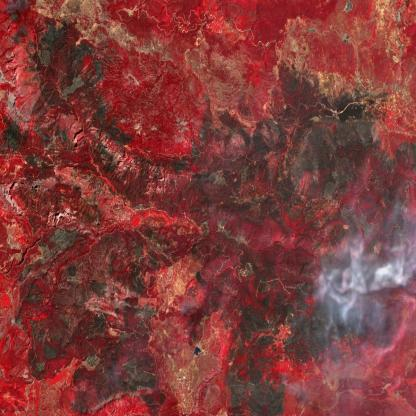fire: (373, 253, 416, 318), (268, 360, 297, 399), (172, 289, 199, 325)
